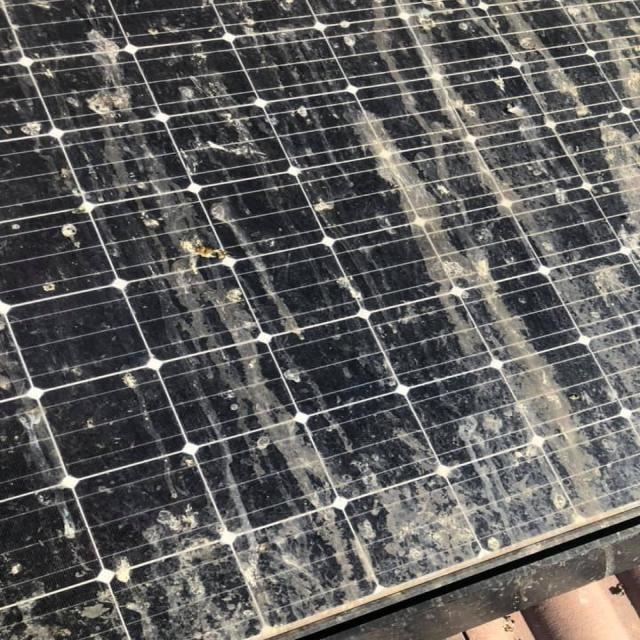Bird-drop: (35, 337, 639, 638), (38, 12, 324, 438), (356, 0, 632, 351), (319, 89, 571, 386), (159, 33, 288, 164), (16, 105, 49, 149)
